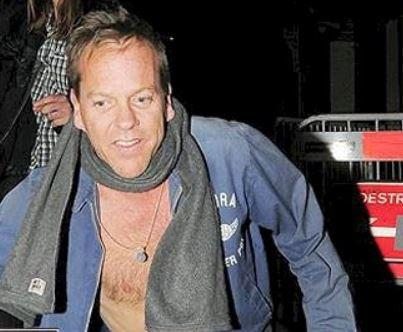Drunk: (80, 42, 162, 174)
